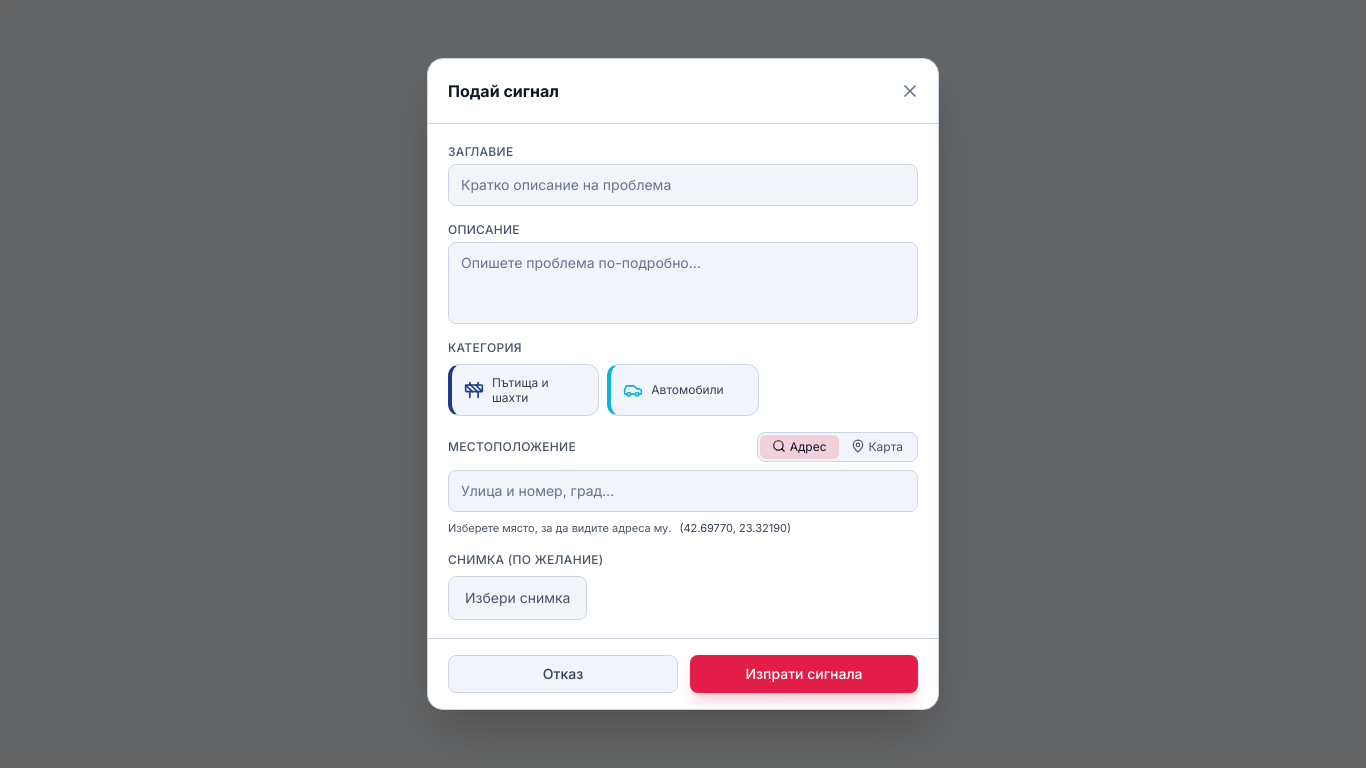
CreateAlertModal › goes back from a group to all groups
Click the list item "Автомобили". click: (683, 390)
box: [607,364,759,416]
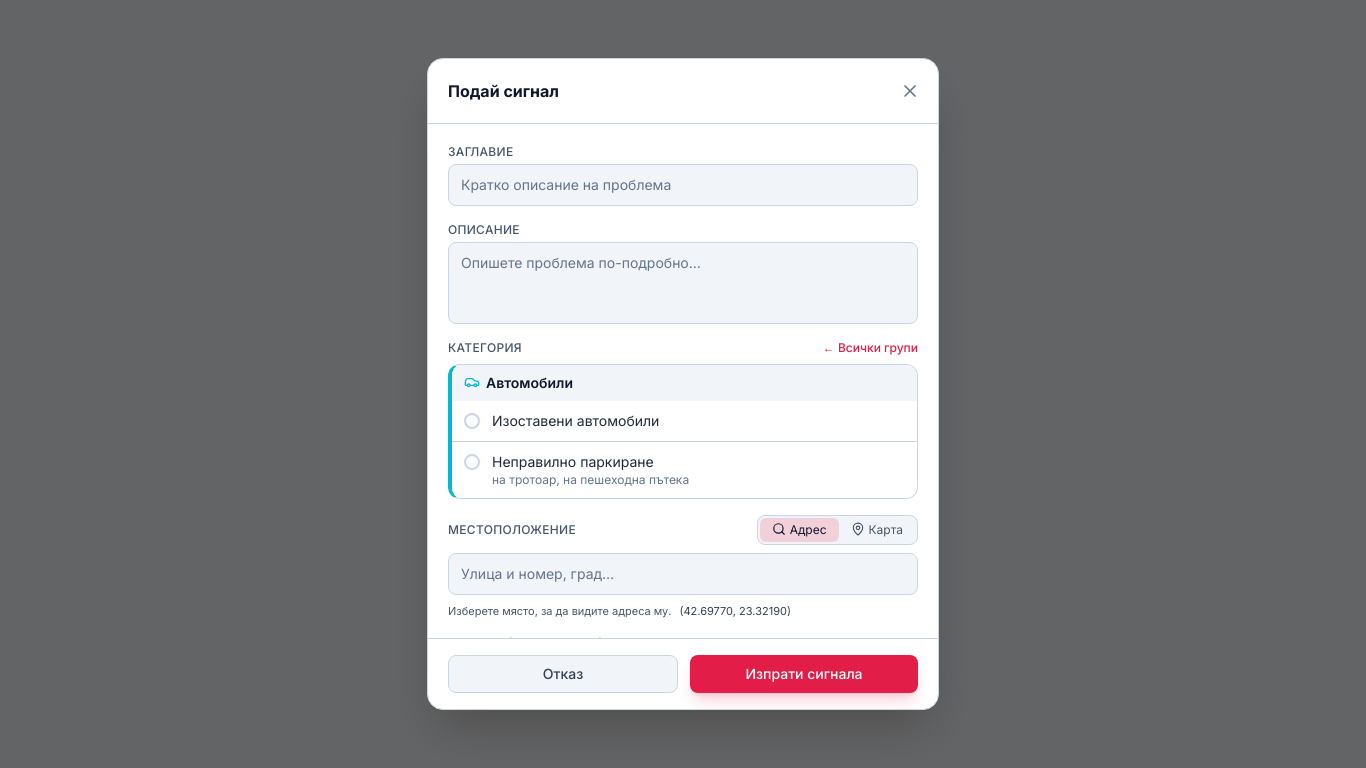
Click the button "← Всички групи". click: (870, 348)
box: [823,340,918,356]
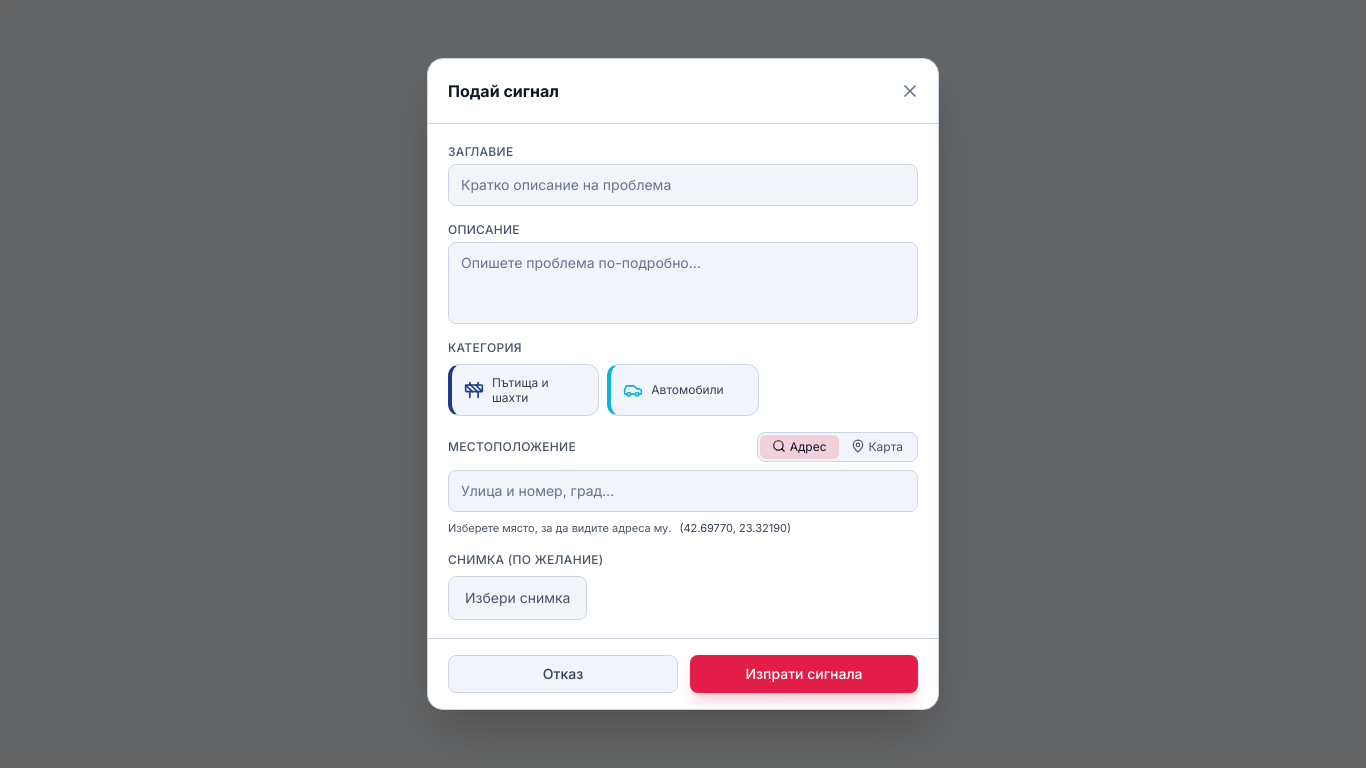
Expected: the list item "Пътища и шахти" is shown, [448,364,599,416]
Expected: the radio button is gone
